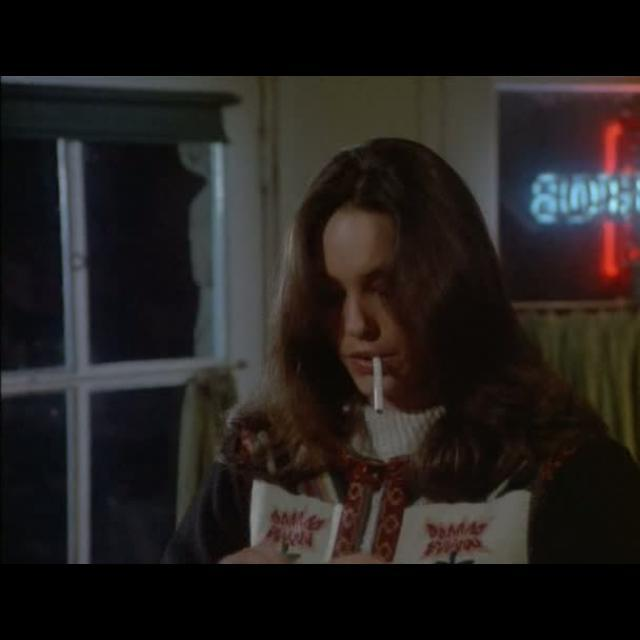rokok: (366, 352, 392, 418)
